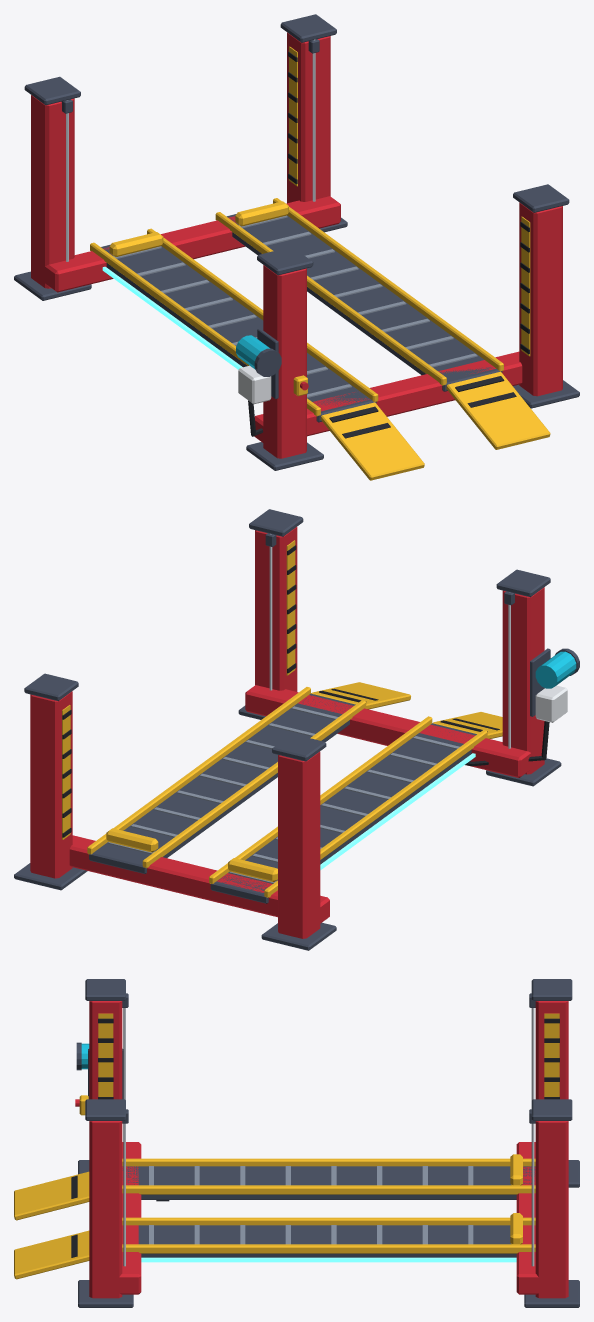
Rendered from FourPostLift.fbx.
3 views of the same model, one above another, from view 1: azimuth 30°, elevation 25°; view 2: azimuth 150°, elevation 25°; view 3: azimuth 270°, elevation 25° (orthographic). The views are drawn at different scales.
Parts seen in each view (by area): view 1: FourPostLift, Neon_Cyan; view 2: FourPostLift, Neon_Cyan; view 3: FourPostLift, Neon_Cyan.
Part boxes in pixels (<box>): FourPostLift: <box>14,14,579,480</box>; Neon_Cyan: <box>102,266,242,369</box>; FourPostLift: <box>14,509,579,950</box>; Neon_Cyan: <box>320,753,475,870</box>; FourPostLift: <box>14,979,579,1307</box>; Neon_Cyan: <box>141,1257,516,1262</box>.
Size of the model in its own units: 14.19 by 8.29 by 22.32.
Materials: 2 (1 with a texture image).
